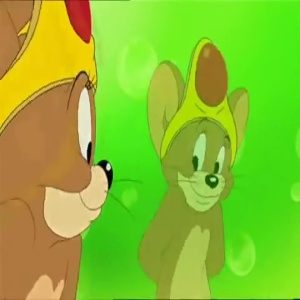Jerry: (1, 83, 105, 228)
